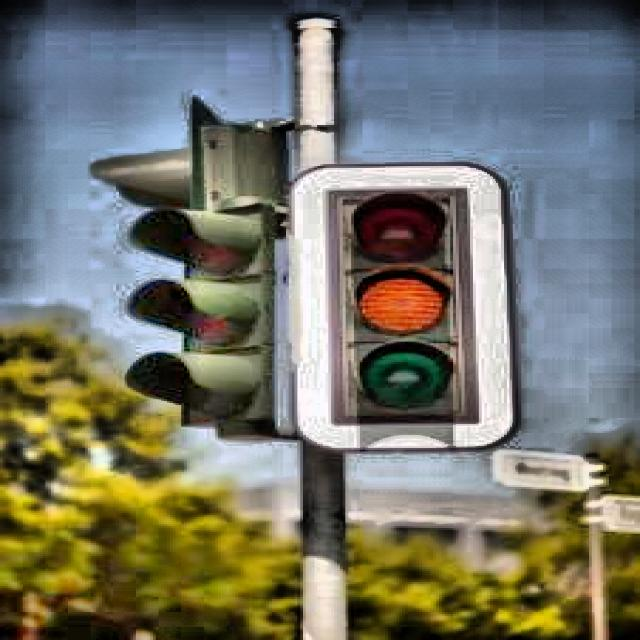yellow: (326, 191, 476, 424)
